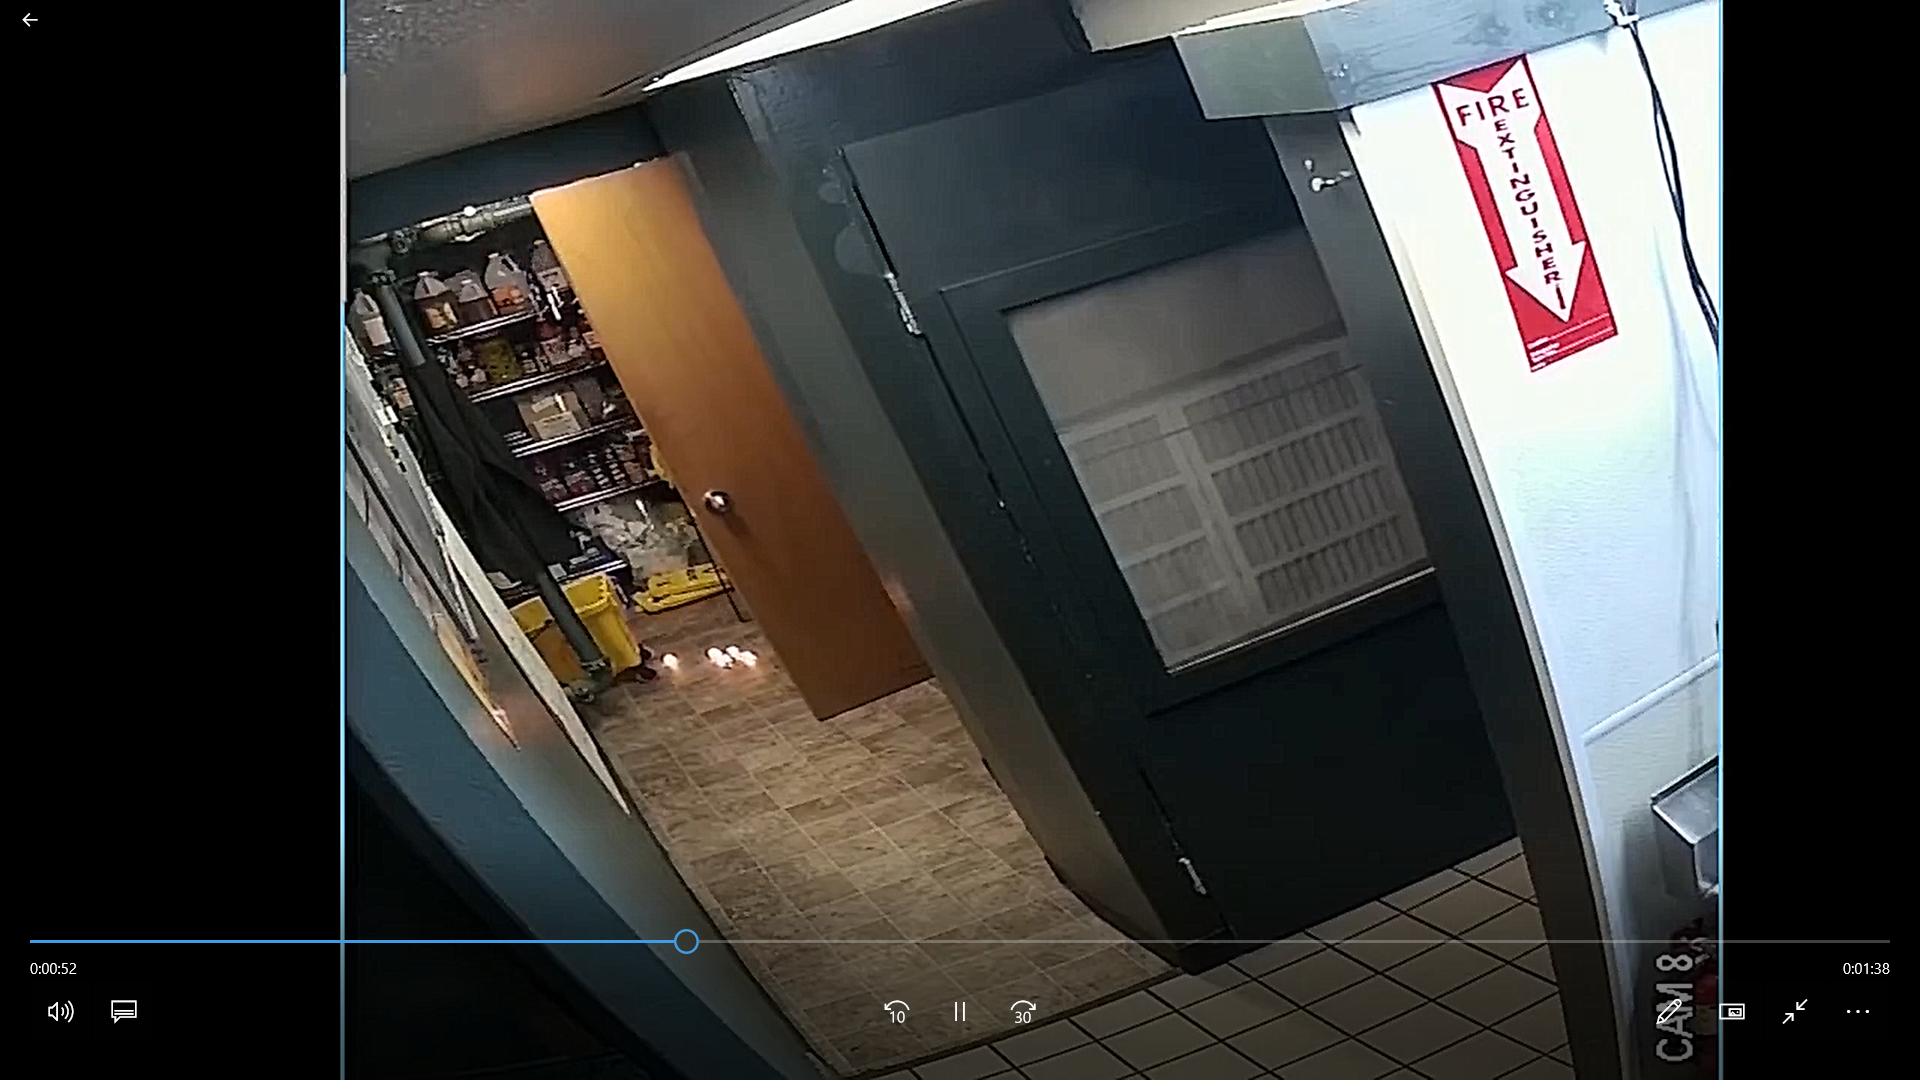fire: (653, 640, 774, 673)
